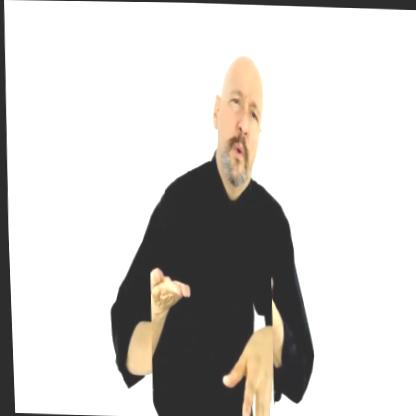Expensive: (144, 256, 273, 416)
